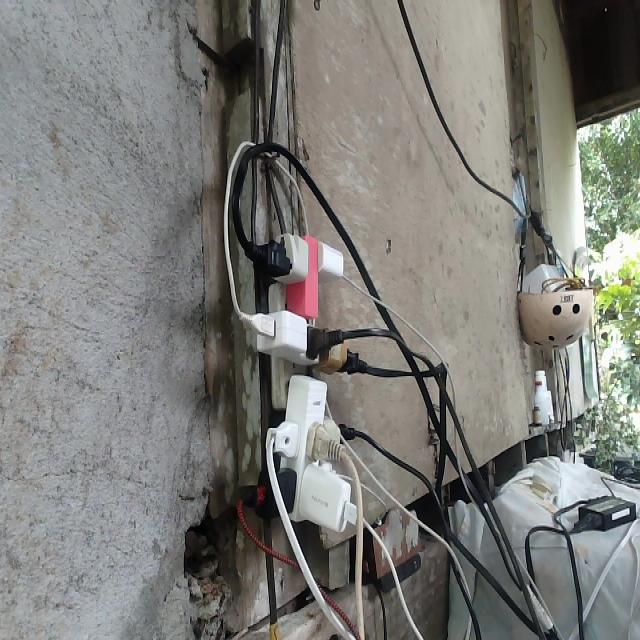-: (231, 228, 371, 537)
